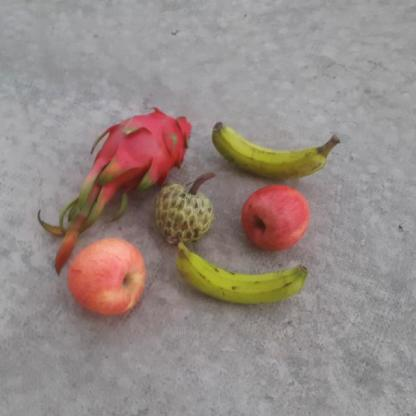annona: (151, 181, 223, 244)
apple: (64, 238, 150, 318), (239, 180, 308, 252)
banana: (167, 238, 313, 311), (206, 121, 352, 179)
pitaya: (92, 108, 195, 186)
